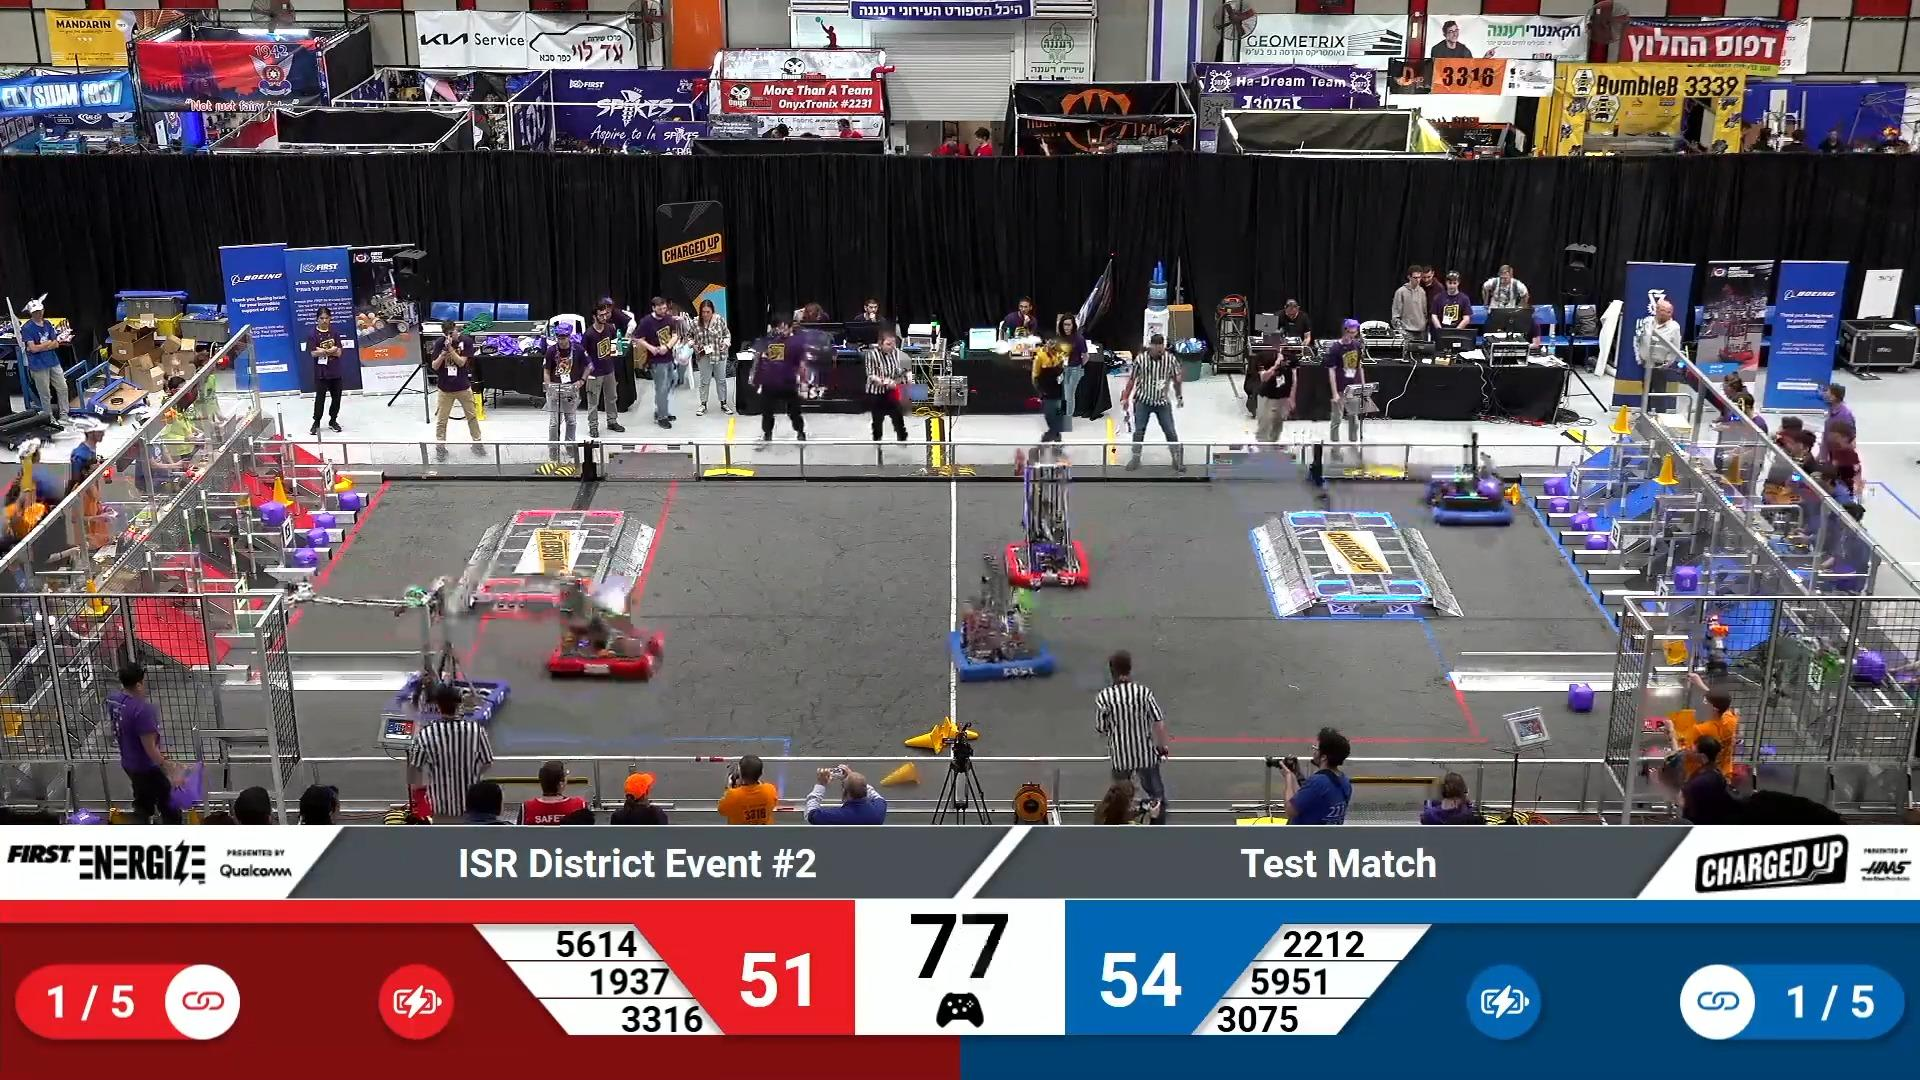robot: (1642, 612, 1884, 782), (268, 579, 514, 728), (945, 546, 1054, 683), (550, 570, 667, 679), (1000, 452, 1092, 589), (1423, 422, 1527, 526)
